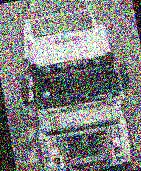truck: (19, 4, 132, 171)
